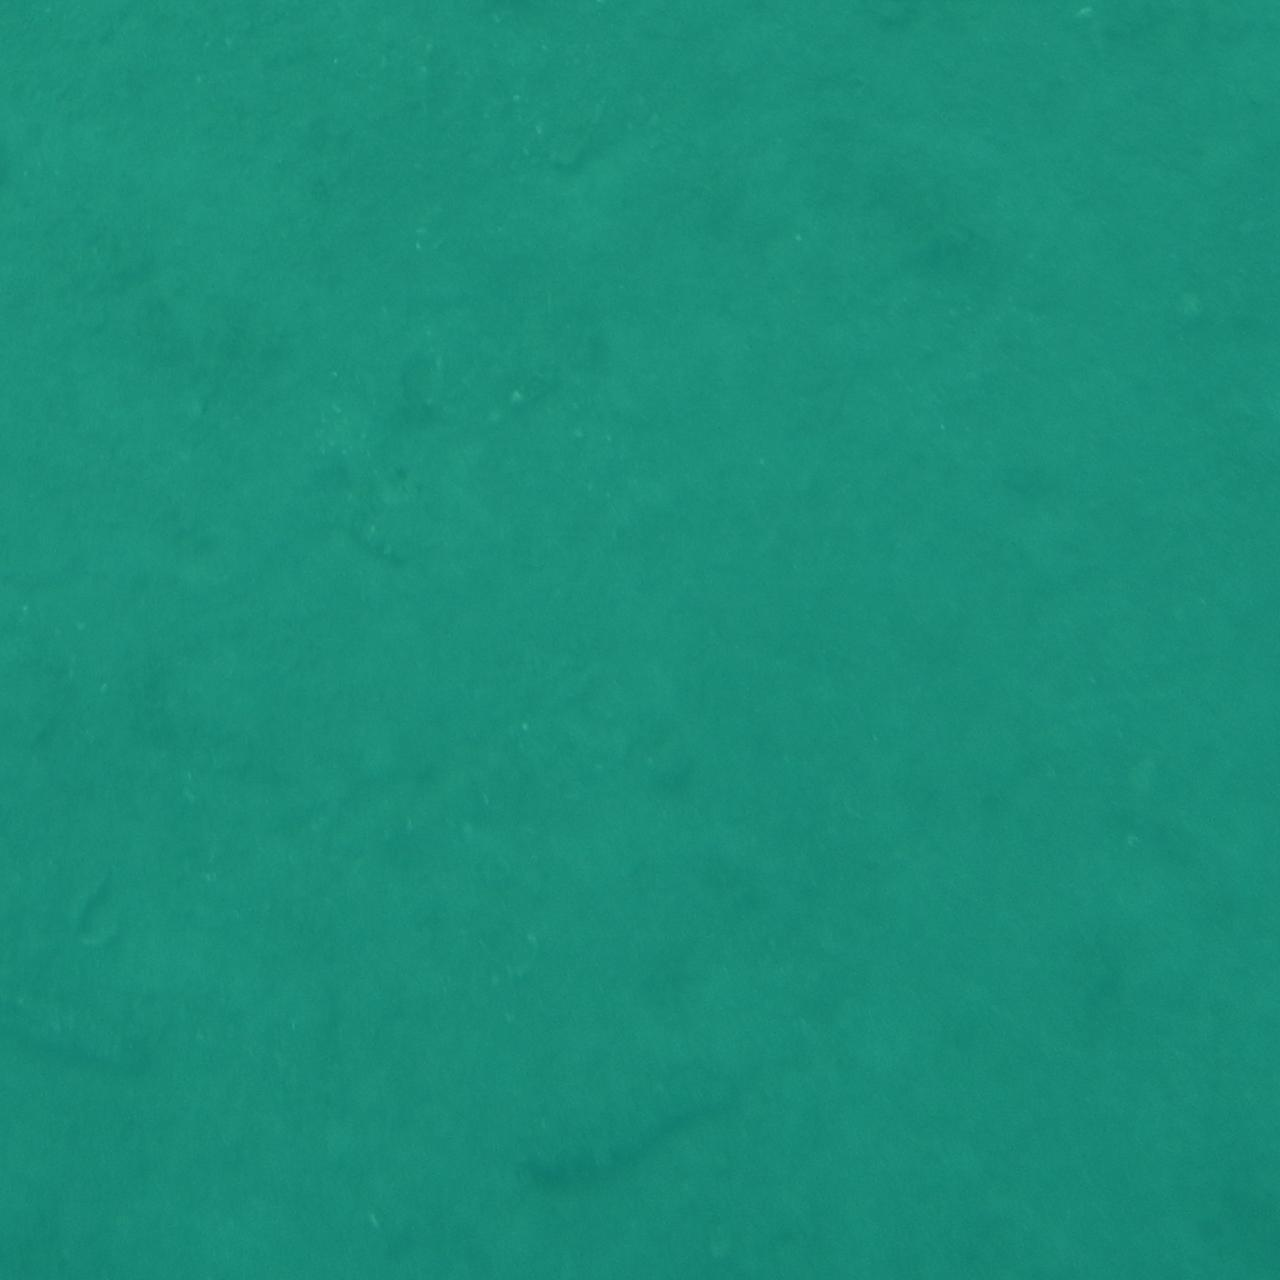Holothuria tubulosa: (494, 1023, 786, 1192)
